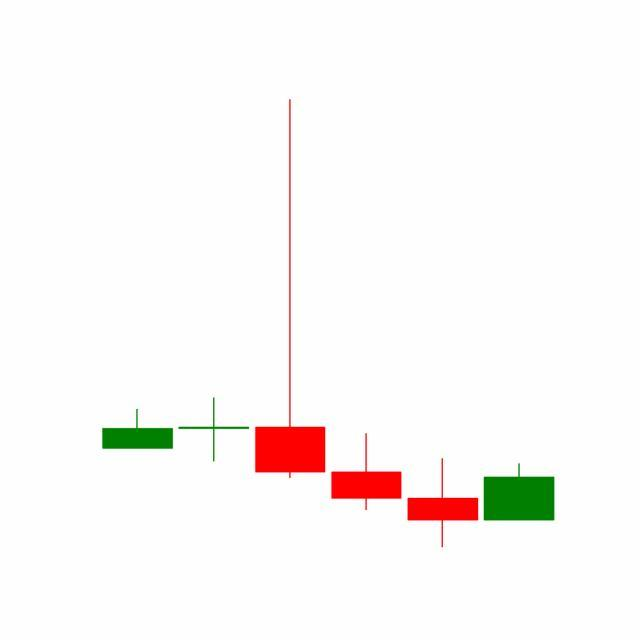Spinning Top: (404, 457, 482, 549)
